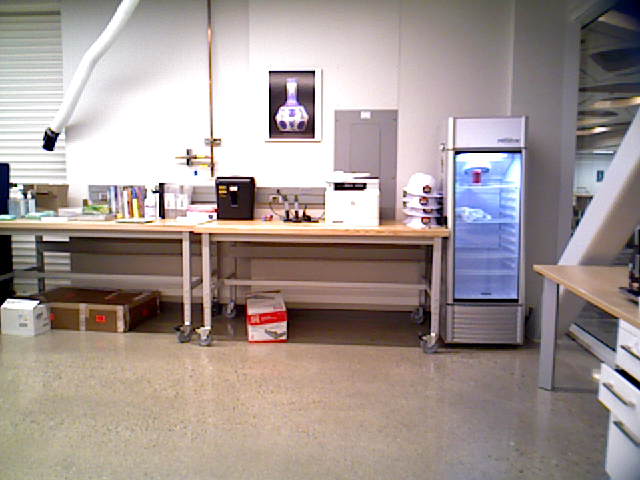painting2: (256, 64, 327, 146)
